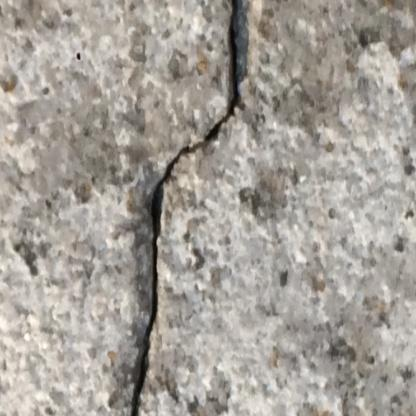Cracks: (126, 0, 255, 416)
